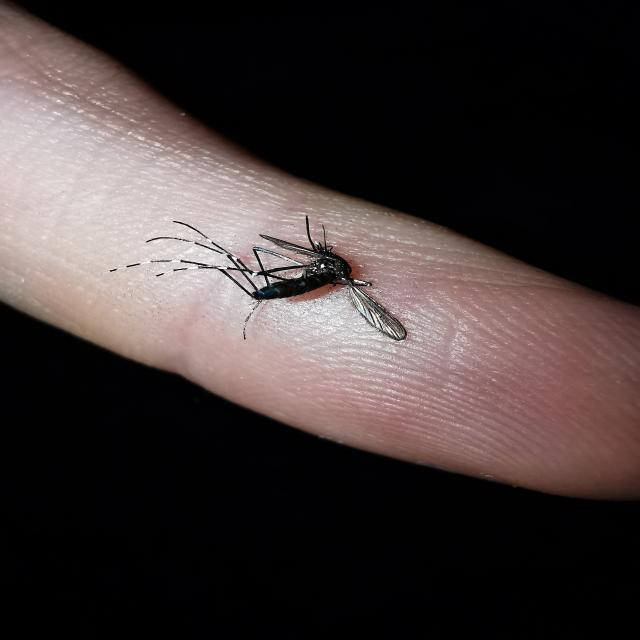albopictus: (112, 206, 398, 350)
